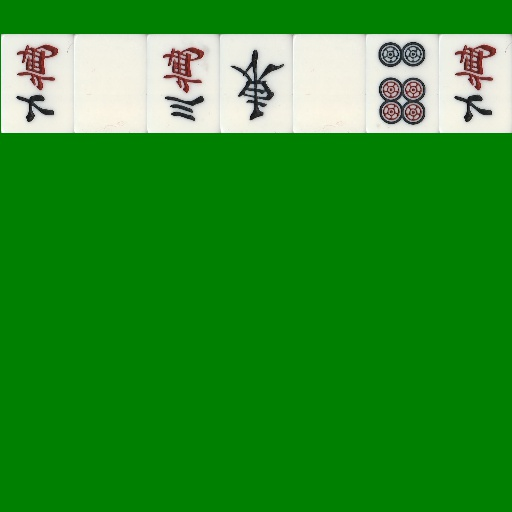3m: (147, 34, 220, 133)
6p: (366, 34, 439, 133)
7m: (1, 34, 74, 133), (439, 34, 512, 133)
east: (220, 34, 293, 133)
white: (74, 34, 147, 133), (293, 34, 366, 133)
